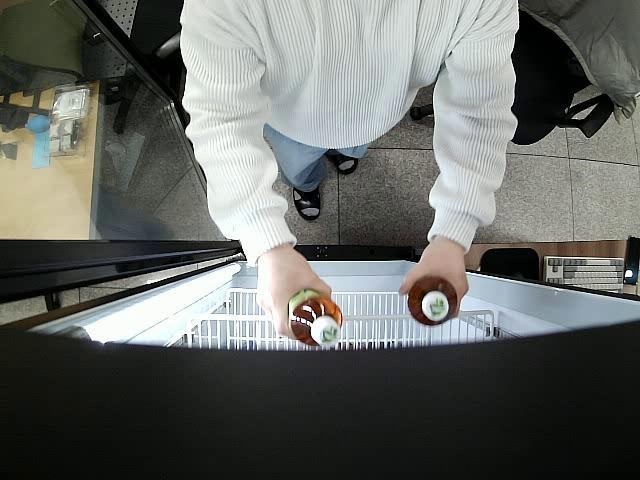19_17cha: (286, 288, 343, 347), (408, 275, 458, 328)
